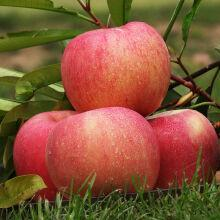apple: (60, 22, 169, 116), (46, 108, 161, 194), (13, 110, 80, 199), (146, 109, 219, 190)
